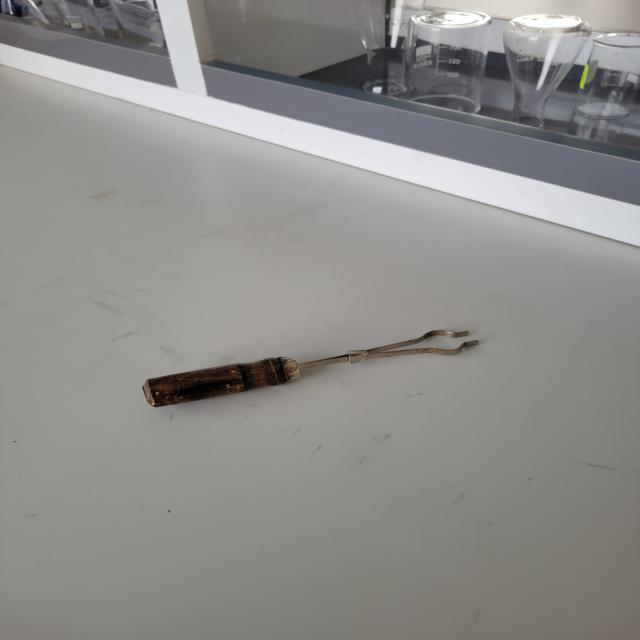TestTube_Holder: (123, 286, 504, 446)
